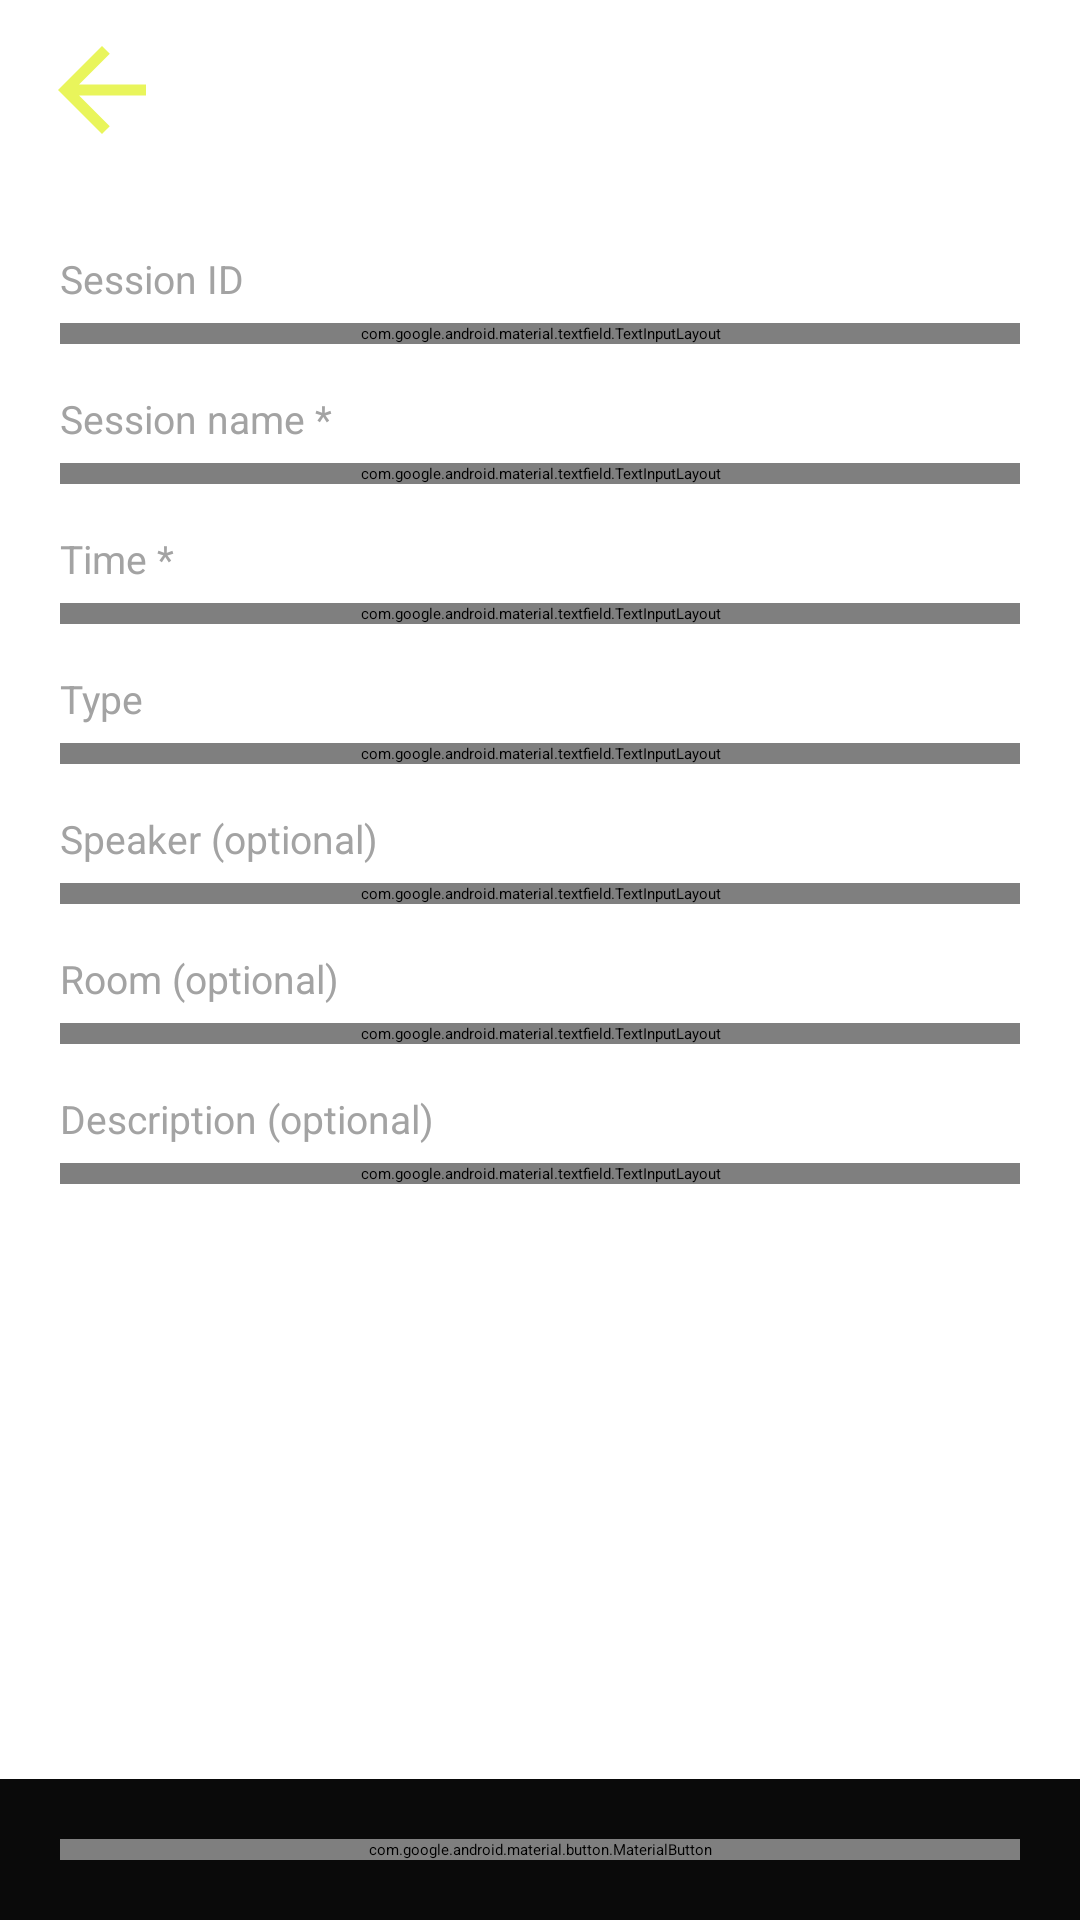

Screen size 1080px×1920px. Icon name, then its center in pixels as point (x, y):
Back: point (102, 90)
